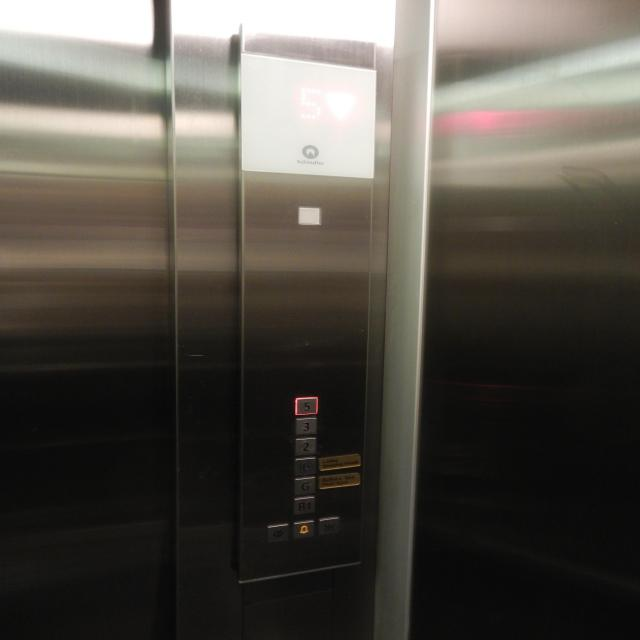2: (292, 436, 318, 456)
3: (293, 416, 319, 436)
5: (294, 394, 320, 416)
B1: (292, 495, 316, 517)
G: (292, 476, 318, 496)
L: (292, 456, 318, 477)
alarm: (292, 520, 315, 540)
close: (316, 515, 341, 537)
empty: (295, 204, 322, 226)
led: (235, 49, 379, 182)
open: (266, 522, 290, 545)
